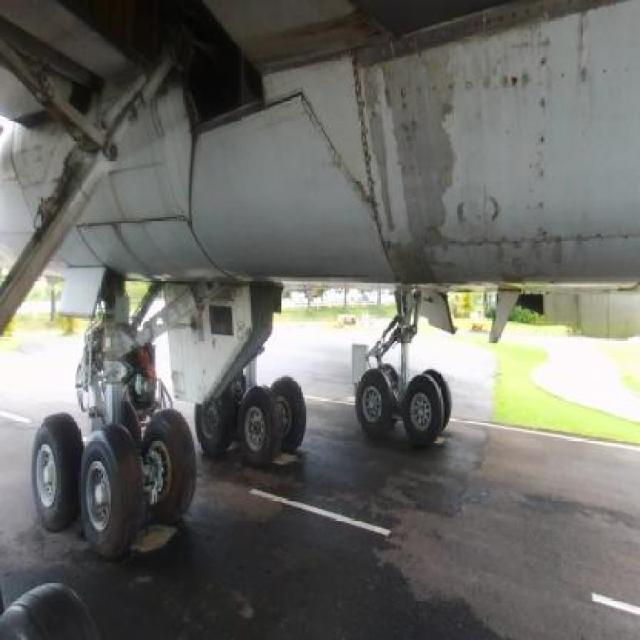Missing-Rivet: (428, 228, 632, 257), (534, 36, 552, 236), (397, 70, 532, 96), (554, 58, 634, 78)
Rust: (569, 6, 611, 52)
Scartch: (361, 47, 468, 293), (476, 234, 576, 303), (472, 9, 559, 62), (452, 180, 518, 235), (470, 56, 530, 96), (577, 62, 591, 100)
